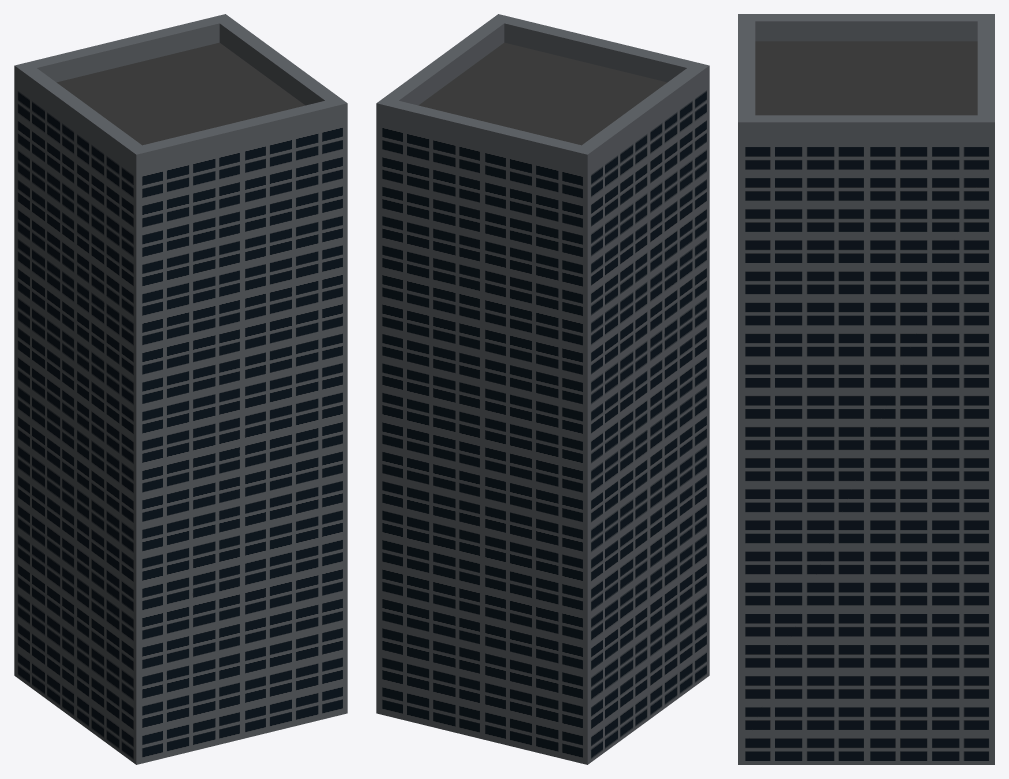
File: SM_Env_Background_Building_Small_04.fbx
The picture shows the model from 3 angles, left to right: view 1: azimuth 30°, elevation 25°; view 2: azimuth 150°, elevation 25°; view 3: azimuth 270°, elevation 25°; orthographic projection. The views are drawn at different scales.
Parts seen in each view (by area): view 1: SM_Env_Background_Building_Small_04; view 2: SM_Env_Background_Building_Small_04; view 3: SM_Env_Background_Building_Small_04.
Part boxes in pixels (bbox=[...]): SM_Env_Background_Building_Small_04: bbox=[14, 14, 347, 764]; SM_Env_Background_Building_Small_04: bbox=[376, 14, 709, 764]; SM_Env_Background_Building_Small_04: bbox=[738, 14, 994, 764].
Bounding box in the file's own units: 1422 × 3926 × 1422.
